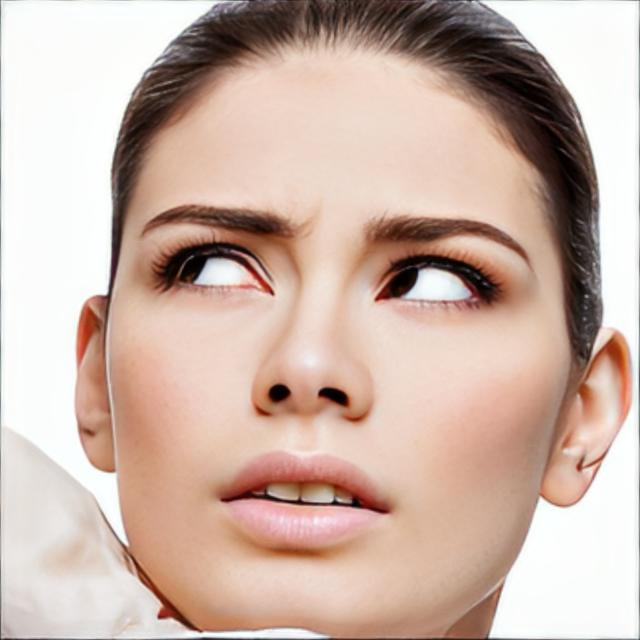disgust: (106, 31, 572, 640)
